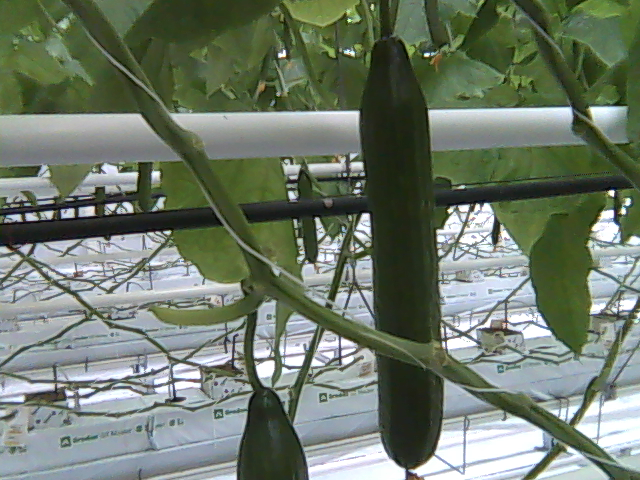concombre: (356, 23, 446, 480), (236, 378, 311, 480)
